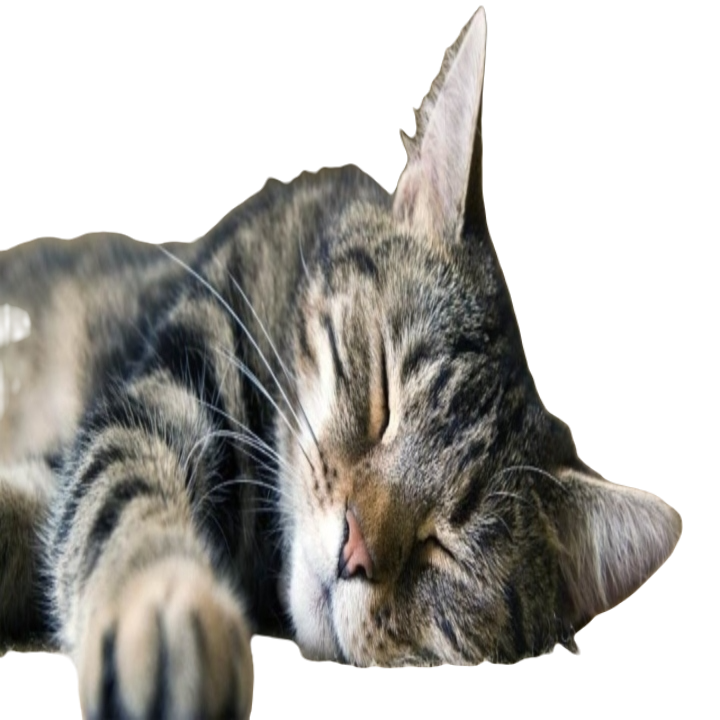Cat: (0, 0, 690, 719)
